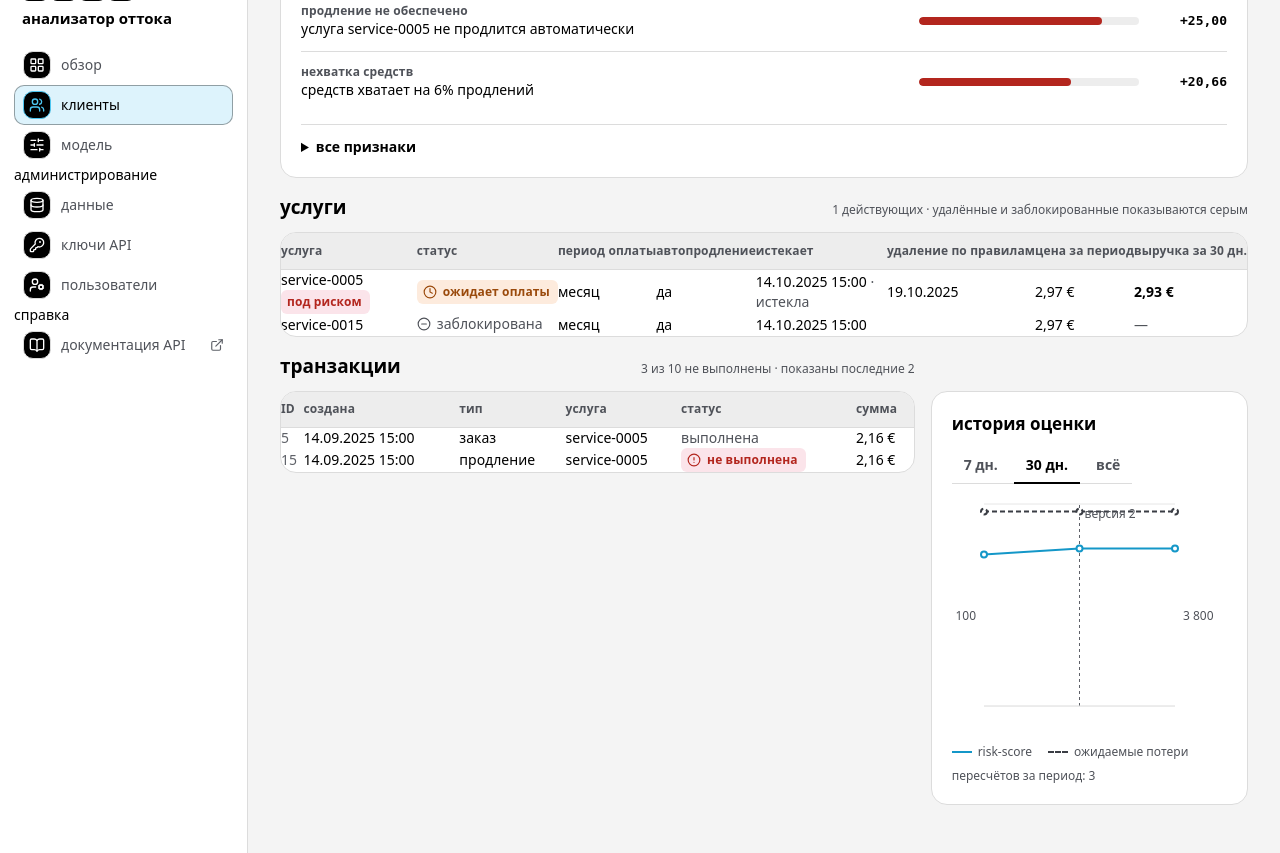
Test case: score history › draws points after a model change and switches the period
The width and height of the screenshot is (1280, 853).
(page scrolled)
Expected: the text "пересчётов за период: 3" is shown, [952,768,1095,784]
Expected: the text "версия 2" is shown, [1084,504,1136,521]
Click the tab "всё": [1108, 466] box [1084,448,1132,484]
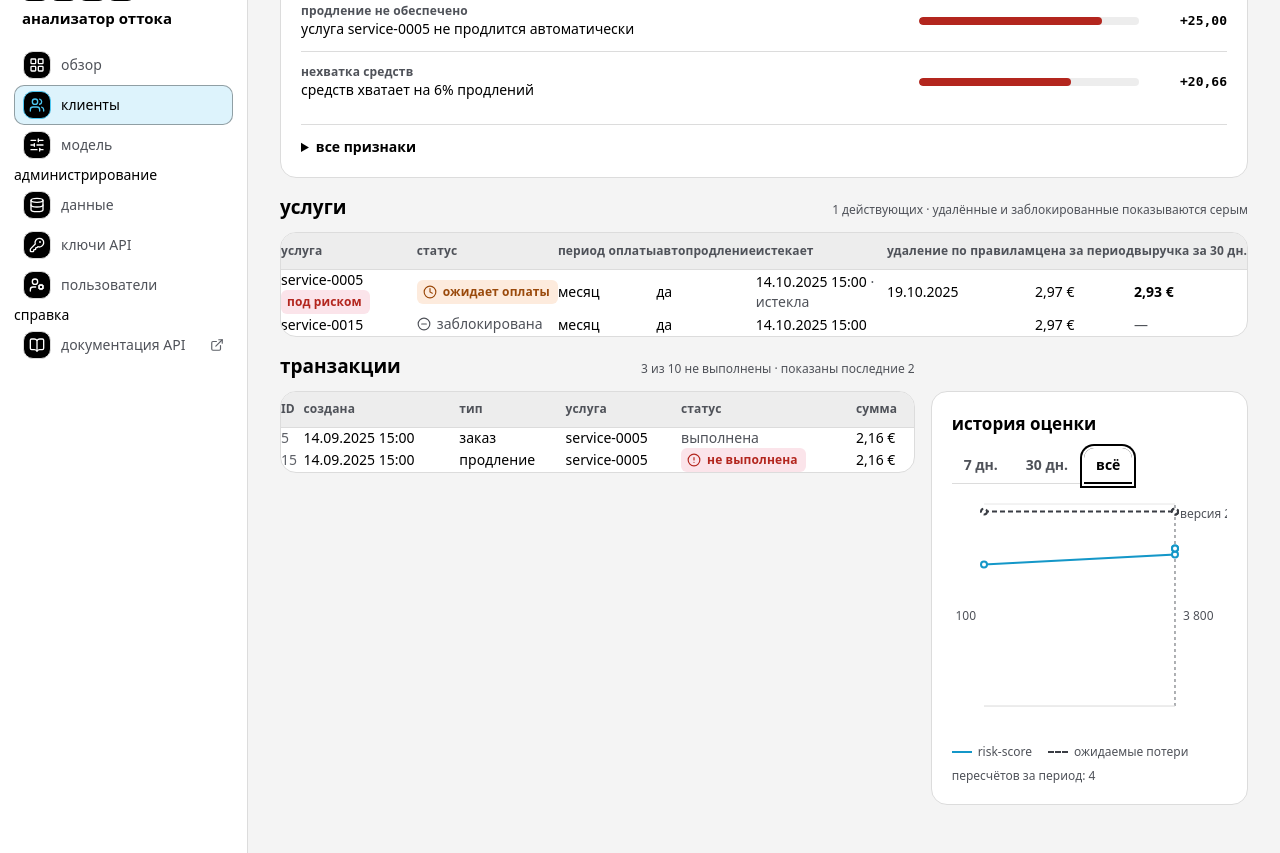
Expected: the text "пересчётов за период: 4" is shown, [952,768,1095,784]
Click the tab "7 дн.": [981, 466] box [952,448,1010,484]
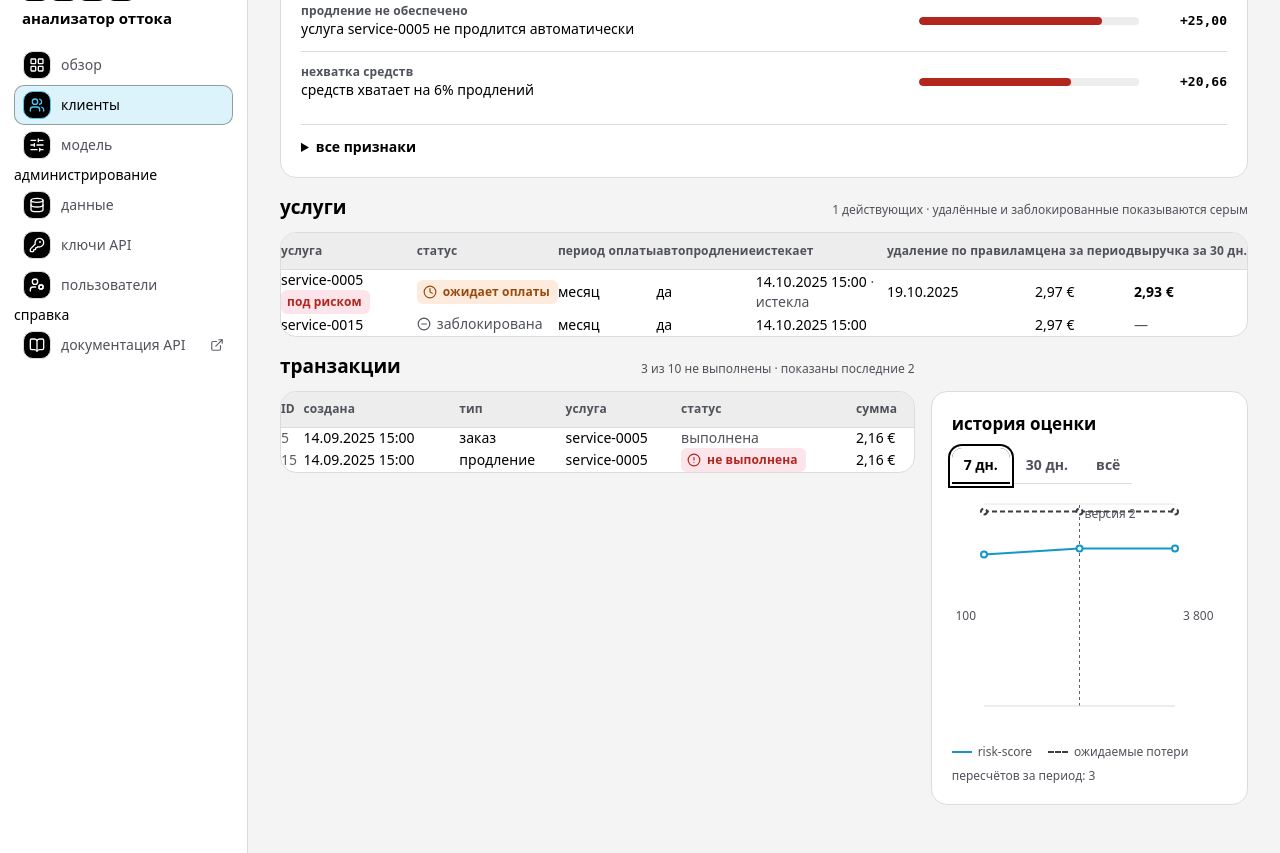
Expected: the text "пересчётов за период: 3" is shown, [952,768,1095,784]
